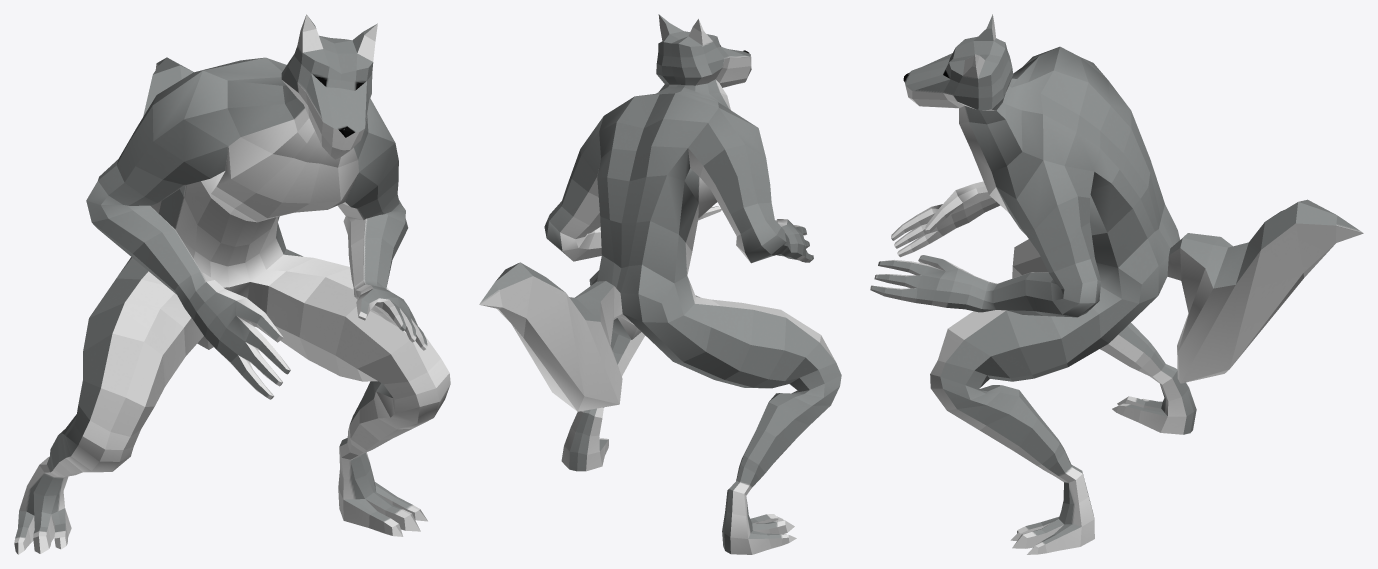
File: WolfAttack(64).obj
3 renders of one model, left to right at view 1: azimuth 30°, elevation 25°; view 2: azimuth 150°, elevation 25°; view 3: azimuth 270°, elevation 25°, orthographic. The views are drawn at different scales.
Visible parts, largest first — view 1: Box001; view 2: Box001; view 3: Box001.
Boxes of the visible parts, x1=… form: Box001: x1=14, y1=14, x2=450, y2=554; Box001: x1=479, y1=14, x2=841, y2=554; Box001: x1=870, y1=14, x2=1363, y2=554.
Size of the model in its own units: 79.58 by 120 by 112.
